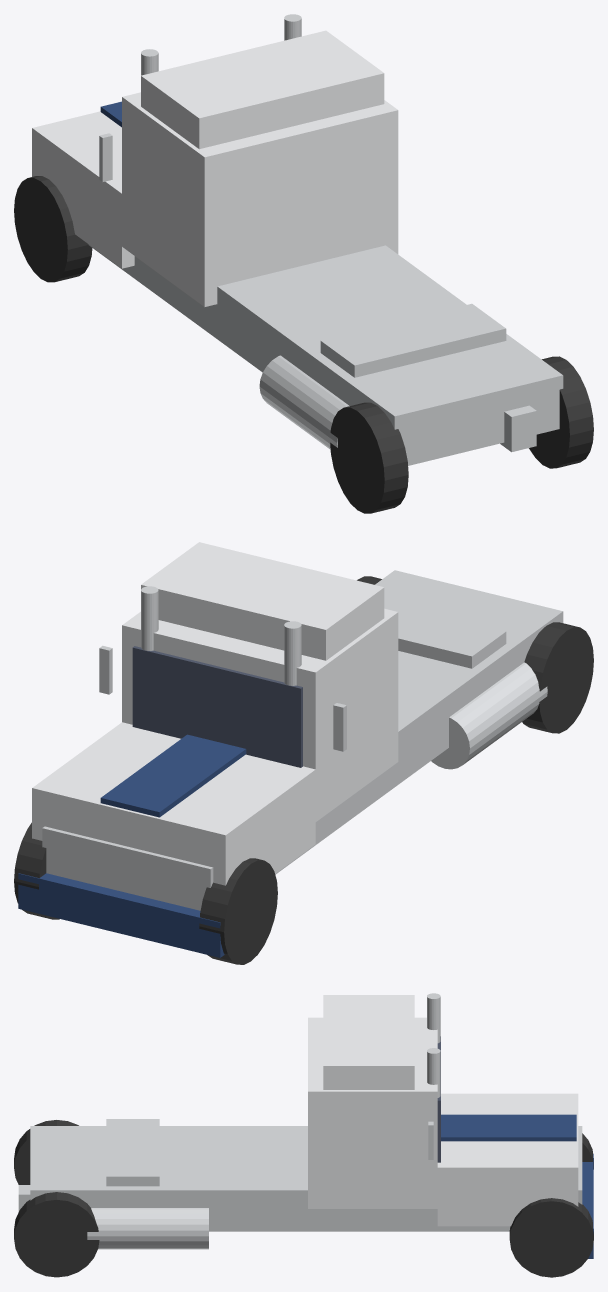
The model's file is tractor.glb.
3 views of the same model, one above another, from view 1: azimuth 30°, elevation 25°; view 2: azimuth 150°, elevation 25°; view 3: azimuth 270°, elevation 25° (orthographic). The views are drawn at different scales.
Visible parts, largest first — view 1: Cab, Chassis, Sleeper, Hood, FifthWheel, WheelDriveL, WheelSteerL, FuelTankL, WheelDriveR, LandingGear, MirrorL; view 2: Hood, Chassis, Cab, Sleeper, Windshield, Bumper, HoodStripe, WheelSteerL, WheelDriveL, FuelTankL, FifthWheel, WheelSteerR (+4 smaller); view 3: Chassis, Cab, Hood, Sleeper, WheelDriveR, WheelSteerR, FuelTankR, HoodStripe, FifthWheel, WheelDriveL, Bumper, StackL (+1 smaller).
Boxes of the visible parts, bbox=[...] form: Cab: bbox=[122, 92, 398, 306]; Chassis: bbox=[88, 244, 563, 465]; Sleeper: bbox=[141, 30, 384, 149]; Hood: bbox=[32, 111, 134, 268]; FifthWheel: bbox=[320, 303, 506, 377]; WheelDriveL: bbox=[330, 402, 408, 513]; WheelSteerL: bbox=[14, 176, 92, 282]; FuelTankL: bbox=[259, 355, 349, 449]; WheelDriveR: bbox=[529, 356, 593, 468]; LandingGear: bbox=[500, 405, 536, 452]; MirrorL: bbox=[99, 133, 112, 181]; Hood: bbox=[32, 722, 315, 885]; Chassis: bbox=[42, 570, 563, 910]; Cab: bbox=[122, 608, 398, 821]; Sleeper: bbox=[141, 542, 384, 660]; Windshield: bbox=[132, 646, 302, 767]; Bumper: bbox=[18, 873, 224, 957]; HoodStripe: bbox=[100, 734, 246, 817]; WheelSteerL: bbox=[199, 858, 277, 964]; WheelDriveL: bbox=[522, 622, 593, 733]; FuelTankL: bbox=[431, 662, 547, 769]; FifthWheel: bbox=[384, 602, 506, 668]; WheelSteerR: bbox=[14, 822, 59, 919]; Chassis: bbox=[30, 1126, 582, 1231]; Cab: bbox=[308, 1017, 437, 1208]; Hood: bbox=[437, 1093, 578, 1226]; Sleeper: bbox=[323, 995, 414, 1089]; WheelDriveR: bbox=[14, 1192, 99, 1277]; WheelSteerR: bbox=[509, 1198, 593, 1277]; FuelTankR: bbox=[87, 1208, 208, 1249]; HoodStripe: bbox=[441, 1114, 576, 1141]; FifthWheel: bbox=[106, 1119, 159, 1186]; WheelDriveL: bbox=[14, 1120, 78, 1184]; Bumper: bbox=[582, 1154, 593, 1258]; StackL: bbox=[427, 993, 440, 1043].
Size of the model in its own units: 2.9 by 3.1 by 7.62.
